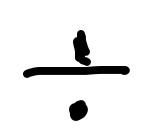div: (22, 31, 131, 121)
